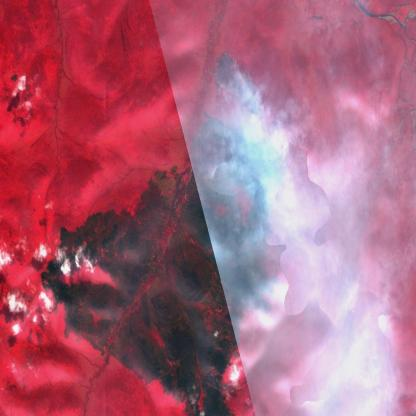fire: (208, 47, 286, 200)
